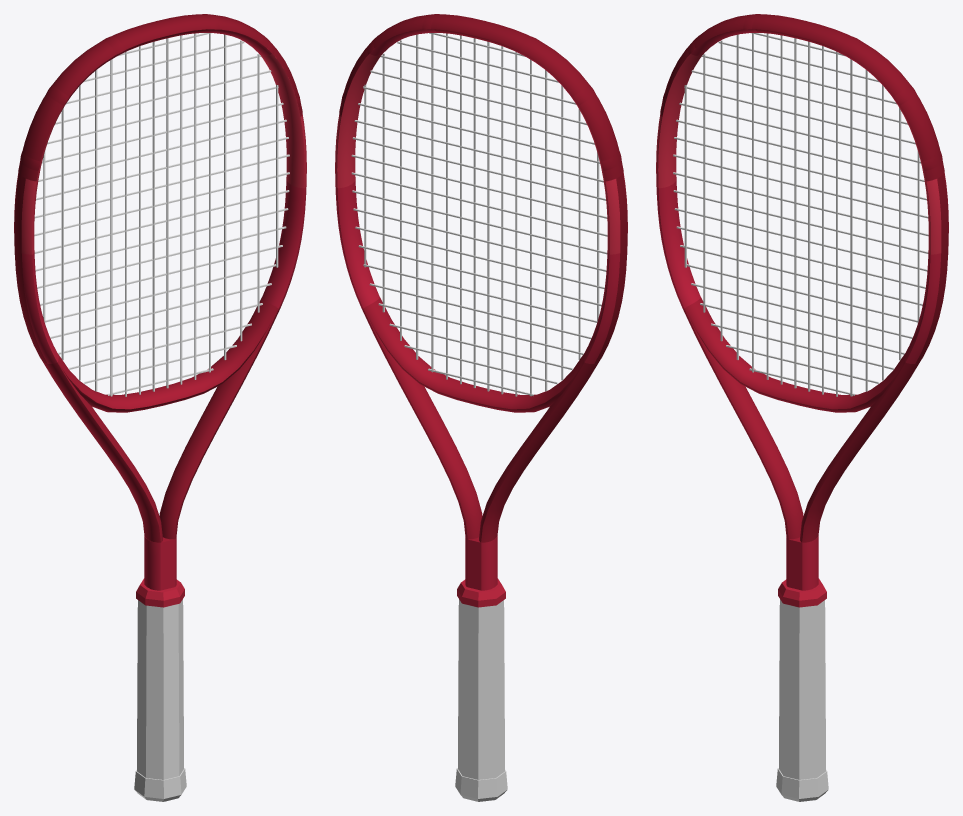
The model's file is yonex-vcore-100d-2026.glb.
The picture shows the model from 3 angles, left to right: view 1: azimuth 30°, elevation 25°; view 2: azimuth 150°, elevation 25°; view 3: azimuth 330°, elevation 25°; orthographic projection.
Visible parts, largest first — view 1: frame, strings_mains, strings_crosses, grip, bumper, grommets, butt_cap, collar; view 2: frame, strings_mains, strings_crosses, grip, bumper, grommets, butt_cap, collar; view 3: frame, strings_mains, strings_crosses, grip, bumper, grommets, butt_cap, collar.
Boxes of the visible parts, x1=… form: frame: x1=14, y1=29, x2=306, y2=590; strings_mains: x1=43, y1=33, x2=278, y2=396; strings_crosses: x1=34, y1=33, x2=289, y2=395; grip: x1=137, y1=599, x2=183, y2=779; bumper: x1=18, y1=14, x2=302, y2=181; grommets: x1=14, y1=174, x2=47, y2=363; butt_cap: x1=134, y1=768, x2=186, y2=801; collar: x1=136, y1=578, x2=184, y2=607; frame: x1=335, y1=29, x2=627, y2=590; strings_mains: x1=364, y1=33, x2=599, y2=396; strings_crosses: x1=351, y1=33, x2=607, y2=396; grip: x1=458, y1=599, x2=504, y2=779; bumper: x1=339, y1=14, x2=623, y2=181; grommets: x1=594, y1=174, x2=627, y2=363; butt_cap: x1=455, y1=768, x2=507, y2=801; collar: x1=457, y1=578, x2=505, y2=607; frame: x1=656, y1=29, x2=948, y2=590; strings_mains: x1=684, y1=33, x2=919, y2=396; strings_crosses: x1=673, y1=33, x2=928, y2=395; grip: x1=779, y1=599, x2=825, y2=779; bumper: x1=660, y1=14, x2=944, y2=181; grommets: x1=915, y1=174, x2=948, y2=363; butt_cap: x1=776, y1=768, x2=828, y2=801; collar: x1=778, y1=578, x2=826, y2=607.
Bounding box in the file's own units: 0.2676 × 0.6861 × 0.0396.
